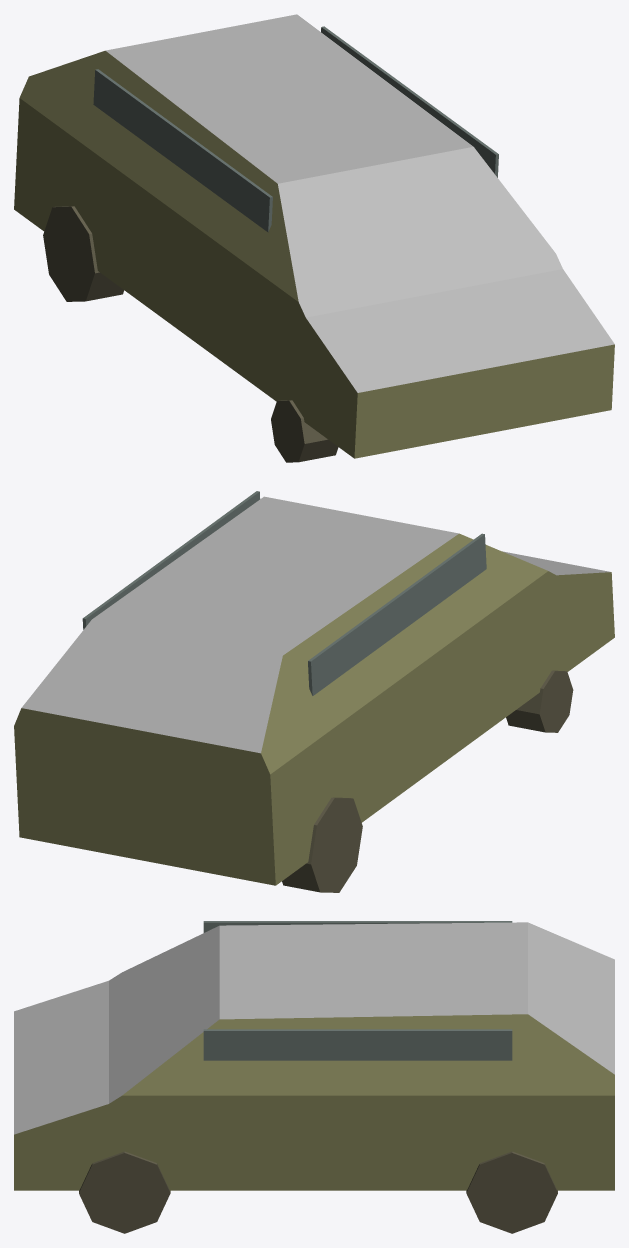
The model's file is SM_CocheCivil_Utilitario_v2_LOD1.fbx.
The picture shows the model from 3 angles, top to bottom: view 1: azimuth 30°, elevation 25°; view 2: azimuth 150°, elevation 25°; view 3: azimuth 270°, elevation 25°; orthographic projection. The views are drawn at different scales.
Visible parts, largest first — view 1: SM_coche_civil_v2_LOD1; view 2: SM_coche_civil_v2_LOD1; view 3: SM_coche_civil_v2_LOD1.
Part boxes in pixels (x1,y1,x2,y2): SM_coche_civil_v2_LOD1: (14, 14, 614, 462); SM_coche_civil_v2_LOD1: (14, 491, 614, 892); SM_coche_civil_v2_LOD1: (14, 921, 614, 1233).
Bounding box in the file's own units: 1.73 × 1.52 × 3.8.
